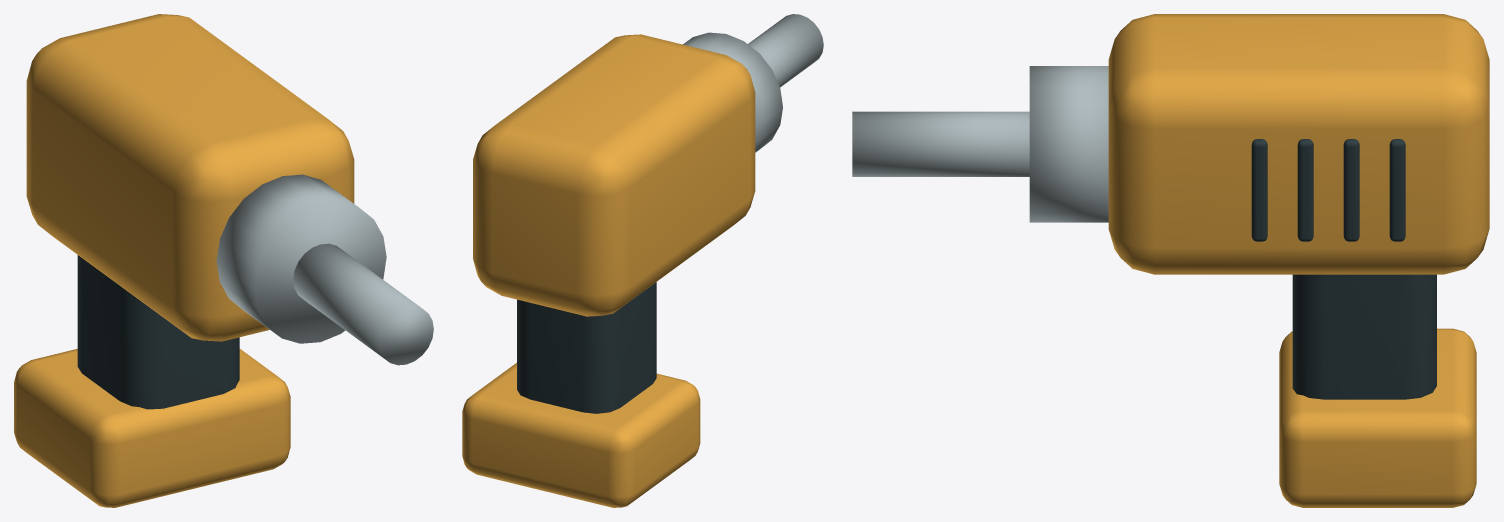
File: drill.glb
3 renders of one model, left to right at view 1: azimuth 30°, elevation 25°; view 2: azimuth 150°, elevation 25°; view 3: azimuth 270°, elevation 25°, orthographic. The views are drawn at different scales.
Visible parts, largest first — view 1: Drill_Enamel, Drill_Steel, Rubber_Grip; view 2: Drill_Enamel, Rubber_Grip, Drill_Steel; view 3: Drill_Enamel, Rubber_Grip, Drill_Steel.
Boxes of the visible parts, x1,y1,x2,y2 form: Drill_Enamel: [14, 14, 354, 507]; Drill_Steel: [216, 174, 433, 365]; Rubber_Grip: [77, 255, 239, 409]; Drill_Enamel: [462, 34, 755, 507]; Rubber_Grip: [517, 282, 656, 413]; Drill_Steel: [683, 14, 823, 152]; Drill_Enamel: [1108, 14, 1489, 507]; Rubber_Grip: [1251, 139, 1436, 399]; Drill_Steel: [852, 66, 1108, 222].
Size of the model in its own units: 0.18 by 0.355 by 0.485.
